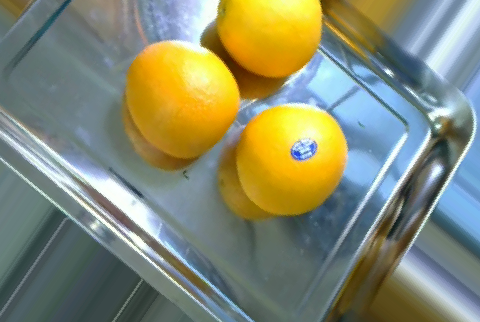Orange: (124, 37, 241, 161), (234, 100, 349, 213), (211, 0, 323, 77)
